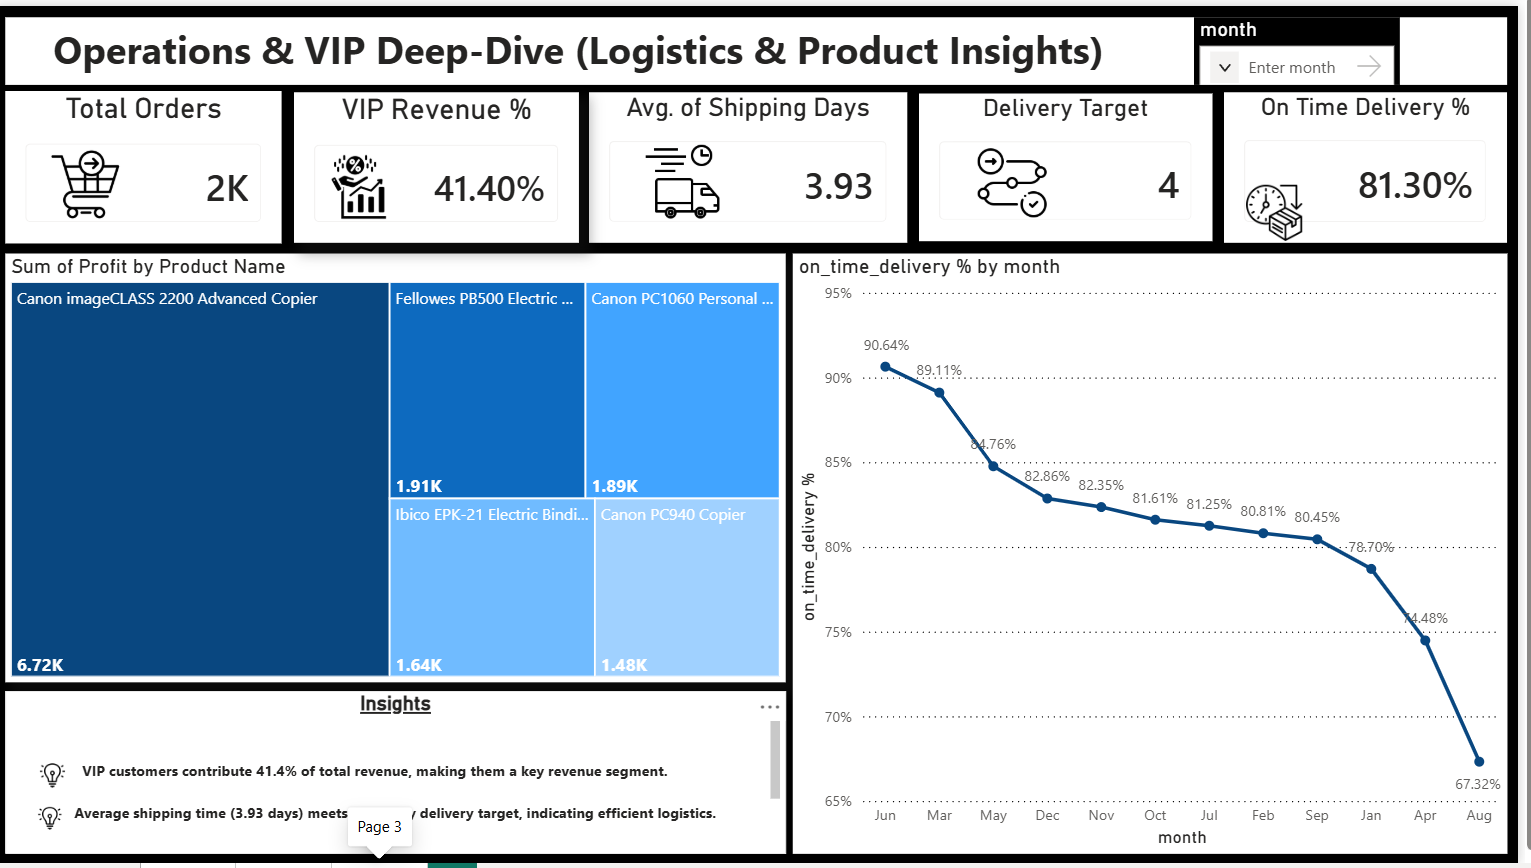

The page's visual inventory and layout, read from the dashboard file:
{"tool":"powerbi","page":{"name":"Page 3","canvas":[1280,720],"ordinal":2},"visuals":[{"type":"textbox","box":[9.7,9.7,1260.5,57],"z":0},{"type":"treemap","fields":{"Group":["walmart.Product Name"],"Values":["Sum(walmart.Profit)"]},"box":[9.7,207.3,655.3,360.3],"z":1000},{"type":"cardVisual","title":"Total Orders","fields":{"Data":["walmart.Total Orders"]},"box":[9.7,71,232.3,128],"z":2000},{"type":"cardVisual","title":"On Time Delivery %","fields":{"Data":["walmart.on_time_delivery %"]},"box":[1032.3,72.3,237.9,126.6],"z":3000},{"type":"cardVisual","title":"Avg. of Shipping Days","fields":{"Data":["Avg(walmart.shipping days)"]},"box":[499.5,72.3,267.1,126.6],"z":4000},{"type":"cardVisual","title":"Delivery Target","fields":{"Data":["walmart.Delivery Target"]},"box":[776.3,73.7,246.3,123.8],"z":5000},{"type":"lineChart","fields":{"Category":["walmart.month"],"Y":["walmart.on_time_delivery %"]},"box":[670.6,207.3,599.7,503.7],"z":6000},{"type":"cardVisual","title":"VIP Revenue %","fields":{"Data":["walmart.VIP Revenue %"]},"box":[251.8,72.3,239.3,126.6],"z":7000},{"type":"image","box":[260.2,123.8,91.8,55.7],"z":8000},{"type":"image","box":[523.1,115.5,108.5,64],"z":9000},{"type":"image","box":[1043.5,150.3,62.6,47.3],"z":10000},{"type":"image","box":[805.6,116.9,97.4,64],"z":11000},{"type":"image","box":[9.7,118.3,135,62.6],"z":12000},{"type":"textbox","title":"Insights","box":[9.7,574.6,655.3,136.3],"z":13000},{"type":"image","box":[34.8,634.4,29.2,22.3],"z":15000},{"type":"image","box":[36.2,672,22.3,20.9],"z":16000}]}

Visuals, with their boxes in screenshot pixels (x1, y1, x2, y2), scaled from the page's 1280x720 canvas onto the 1531x868 screenshot:
textbox: 12/12/1519/80
treemap - walmart.Product Name x Sum(walmart.Profit): 12/250/795/684
"Total Orders" cardVisual: 12/86/289/240
"On Time Delivery %" cardVisual: 1235/87/1519/240
"Avg. of Shipping Days" cardVisual: 597/87/917/240
"Delivery Target" cardVisual: 929/89/1223/238
lineChart - walmart.month x walmart.on_time_delivery %: 802/250/1519/857
"VIP Revenue %" cardVisual: 301/87/587/240
image: 311/149/421/216
image: 626/139/755/216
image: 1248/181/1323/238
image: 964/141/1080/218
image: 12/143/173/218
"Insights" textbox: 12/693/795/857
image: 42/765/77/792
image: 43/810/70/835
